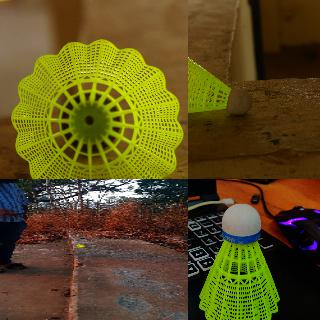shuttlecock: (11, 39, 185, 178), (201, 204, 280, 319), (188, 55, 252, 115), (76, 244, 88, 247)
